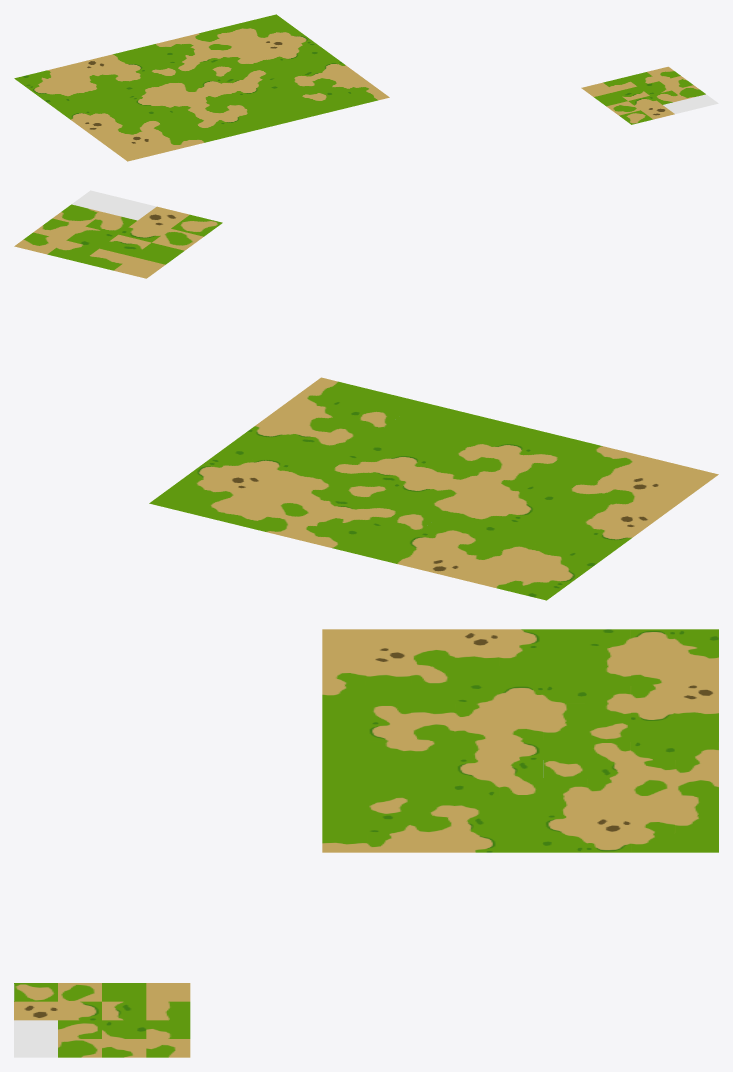
The model's file is Stage.FBX.
3 renders of one model, top to bottom at view 1: azimuth 30°, elevation 25°; view 2: azimuth 150°, elevation 25°; view 3: azimuth 270°, elevation 25°, orthographic. The views are drawn at different scales.
Parts seen in each view (by area): view 1: Stage-07, Stage-086, Stage-138, Stage-04, Stage-125, Stage-02, Stage-018, Stage-023, Stage-024, Stage-032, Stage-036, Stage-045 (+112 smaller); view 2: Stage-13, Stage-047, Stage-098, Stage-116, Stage-140, Stage-03, Stage-11, Stage-12, Stage-022, Stage-031, Stage-038, Stage-044 (+112 smaller); view 3: Stage-051, Stage-079, Stage-105, Stage-02, Stage-06, Stage-021, Stage-024, Stage-031, Stage-042, Stage-045, Stage-061, Stage-065 (+112 smaller).
Boxes of the visible parts, x1=… form: Stage-07: x1=637, y1=81, x2=671, y2=95; Stage-086: x1=61, y1=86, x2=95, y2=100; Stage-138: x1=123, y1=46, x2=157, y2=60; Stage-04: x1=647, y1=66, x2=680, y2=80; Stage-125: x1=52, y1=101, x2=85, y2=115; Stage-02: x1=603, y1=77, x2=636, y2=91; Stage-018: x1=139, y1=79, x2=173, y2=93; Stage-023: x1=187, y1=92, x2=220, y2=106; Stage-024: x1=230, y1=82, x2=264, y2=96; Stage-032: x1=221, y1=96, x2=254, y2=110; Stage-036: x1=177, y1=107, x2=211, y2=121; Stage-045: x1=192, y1=54, x2=226, y2=68; Stage-13: x1=171, y1=214, x2=222, y2=236; Stage-047: x1=334, y1=516, x2=385, y2=537; Stage-098: x1=168, y1=475, x2=219, y2=497; Stage-116: x1=615, y1=472, x2=666, y2=494; Stage-140: x1=500, y1=556, x2=551, y2=578; Stage-03: x1=47, y1=240, x2=98, y2=262; Stage-11: x1=85, y1=212, x2=137, y2=234; Stage-12: x1=52, y1=204, x2=104, y2=226; Stage-022: x1=344, y1=443, x2=395, y2=465; Stage-031: x1=396, y1=438, x2=447, y2=459; Stage-038: x1=510, y1=484, x2=561, y2=505; Stage-044: x1=287, y1=486, x2=338, y2=507; Stage-051: x1=366, y1=759, x2=410, y2=778; Stage-079: x1=366, y1=666, x2=410, y2=685; Stage-105: x1=322, y1=815, x2=366, y2=834; Stage-02: x1=146, y1=1001, x2=190, y2=1020; Stage-06: x1=102, y1=1001, x2=146, y2=1020; Stage-021: x1=498, y1=759, x2=542, y2=778; Stage-024: x1=454, y1=759, x2=498, y2=778; Stage-031: x1=410, y1=759, x2=454, y2=778; Stage-042: x1=542, y1=759, x2=586, y2=778; Stage-045: x1=586, y1=759, x2=630, y2=778; Stage-061: x1=542, y1=815, x2=586, y2=834; Stage-065: x1=542, y1=666, x2=586, y2=685.
Bounding box in the file's own units: 9200 × 0.000236 × 6400.
1 material, 1 textured.
